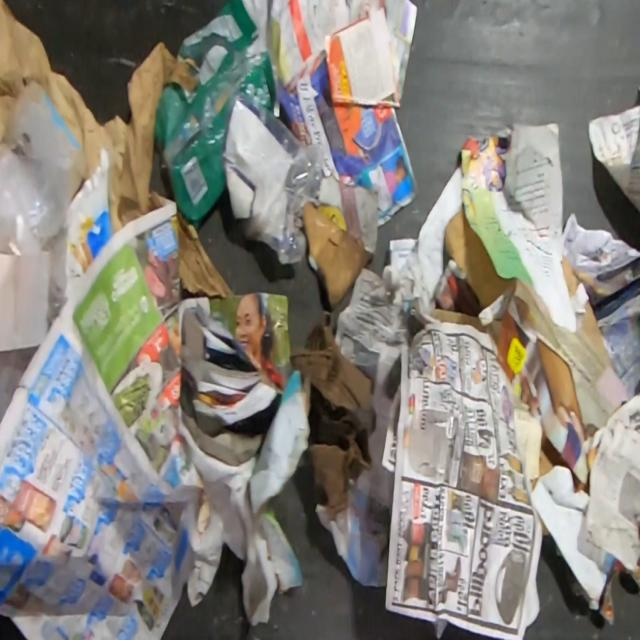cardboard: (290, 309, 373, 515), (301, 199, 376, 310), (444, 201, 518, 308), (534, 334, 600, 442), (560, 252, 615, 374)
soft_plastic: (154, 0, 281, 229), (0, 91, 86, 423), (220, 90, 326, 265)
